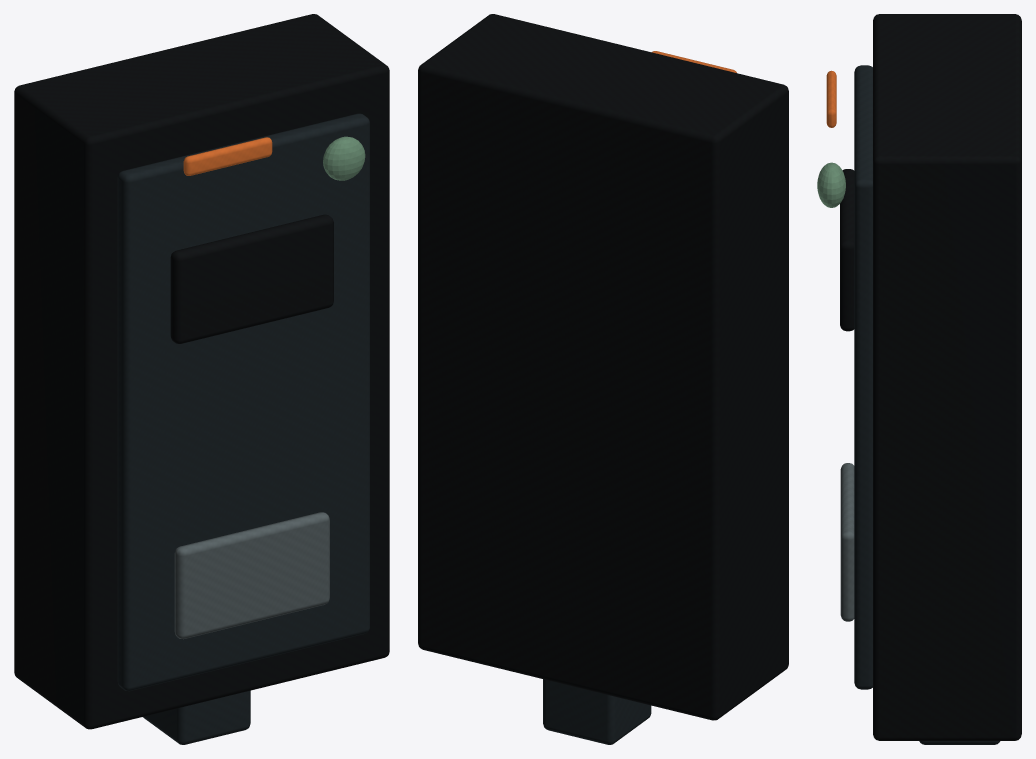
File: GasDetector.glb
3 renders of one model, left to right at view 1: azimuth 30°, elevation 25°; view 2: azimuth 150°, elevation 25°; view 3: azimuth 270°, elevation 25°, orthographic.
Visible parts, largest first — view 1: GasDetector_Mesh; view 2: GasDetector_Mesh; view 3: GasDetector_Mesh.
Part boxes in pixels (x1=…): GasDetector_Mesh: x1=14, y1=14, x2=389, y2=744; GasDetector_Mesh: x1=418, y1=14, x2=788, y2=744; GasDetector_Mesh: x1=817, y1=14, x2=1021, y2=744.
Bounding box in the file's own units: 0.42 × 0.86 × 0.2475.
Materials: 5 (5 with a texture image).
